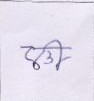i_matra: (50, 39, 67, 70)
